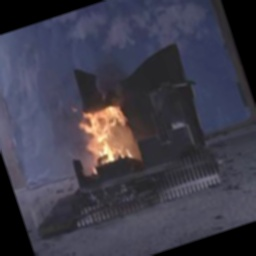fire: (67, 85, 149, 178)
